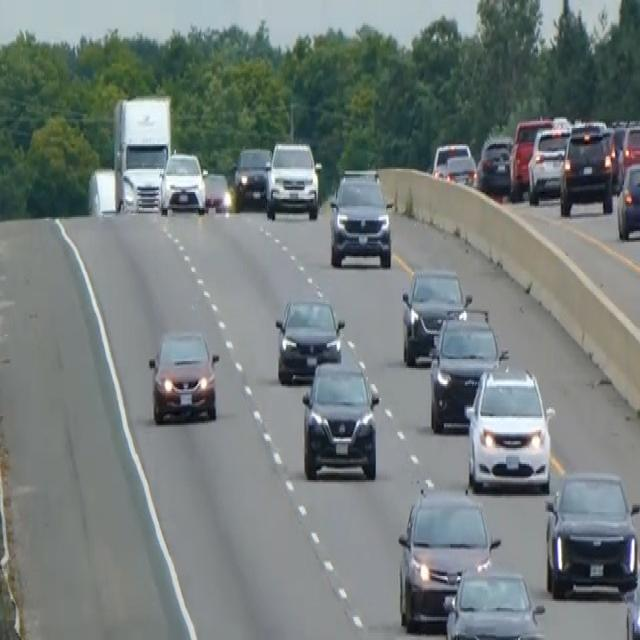car: (396, 484, 500, 630), (544, 468, 639, 599), (463, 361, 555, 492), (428, 306, 507, 432), (300, 356, 380, 480), (443, 564, 546, 638), (147, 327, 219, 425), (400, 265, 471, 364), (274, 295, 345, 384), (558, 121, 614, 217), (265, 138, 321, 220), (508, 116, 553, 199), (526, 123, 570, 205), (158, 149, 206, 215), (232, 144, 271, 206), (476, 133, 513, 194), (431, 138, 476, 186), (616, 158, 639, 240), (86, 165, 117, 217), (618, 121, 639, 183), (203, 169, 230, 213)
jeep: (327, 165, 393, 268)
lorry: (111, 92, 173, 214)
